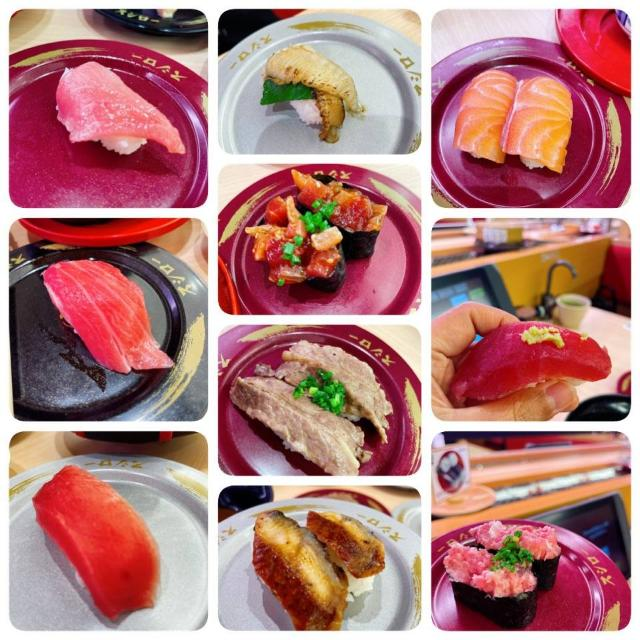janback: (9, 231, 218, 421), (79, 0, 198, 44), (557, 402, 640, 419)
janred: (21, 34, 225, 224), (415, 30, 618, 214), (223, 328, 426, 475), (212, 200, 407, 317), (433, 522, 618, 634), (523, 0, 640, 93)
janwhite: (17, 435, 209, 636), (212, 42, 435, 164), (208, 504, 393, 630)
